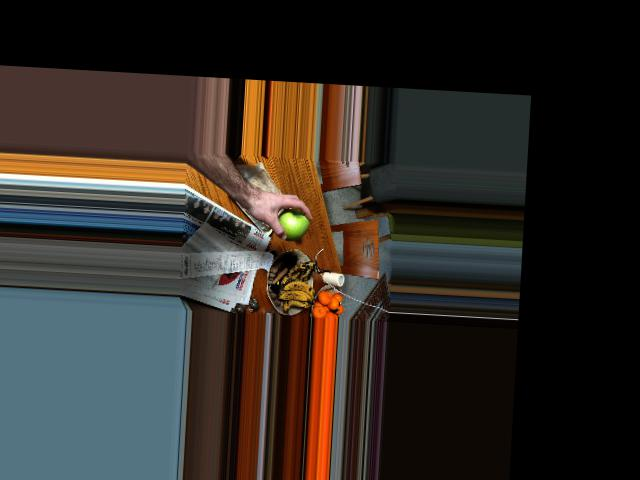apple: (275, 207, 309, 242)
